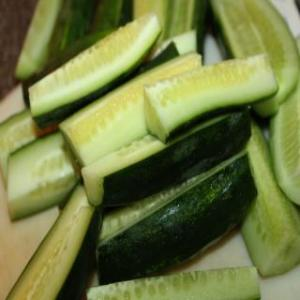cucumber: (96, 157, 256, 286), (100, 111, 254, 208)
